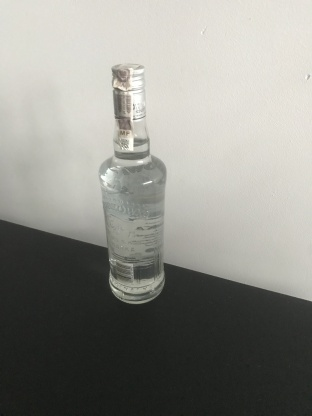nakretka: (110, 61, 148, 123)
